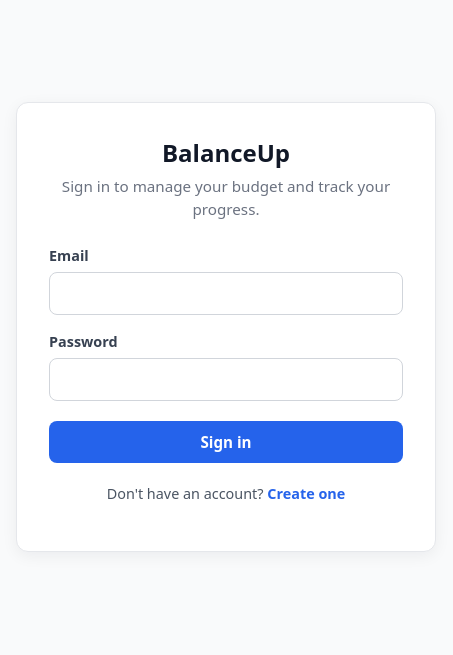
it: App & Auth Routing › redirects unauthenticated users from / to /login and lets them navigate to /register
Check: the button "Sign in" is shown, box top-left (49, 421), bottom-right (403, 463)
Click the link "Create one" at (306, 494), box top-left (267, 484), bottom-right (345, 503)
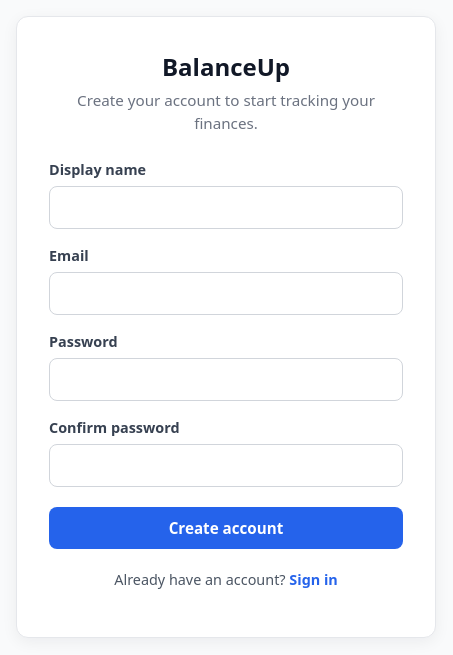
Check: the button "Create account" is shown, box top-left (49, 507), bottom-right (403, 549)
